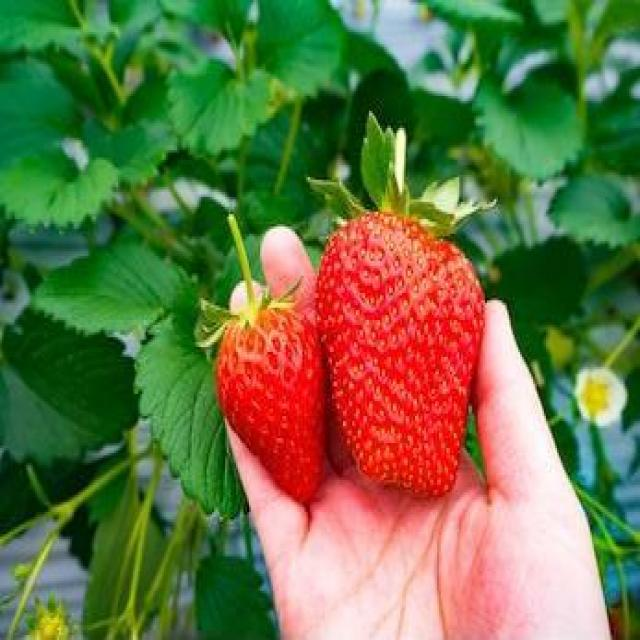Berries strawberries/blueberries: (327, 205, 482, 491), (214, 296, 330, 505)
